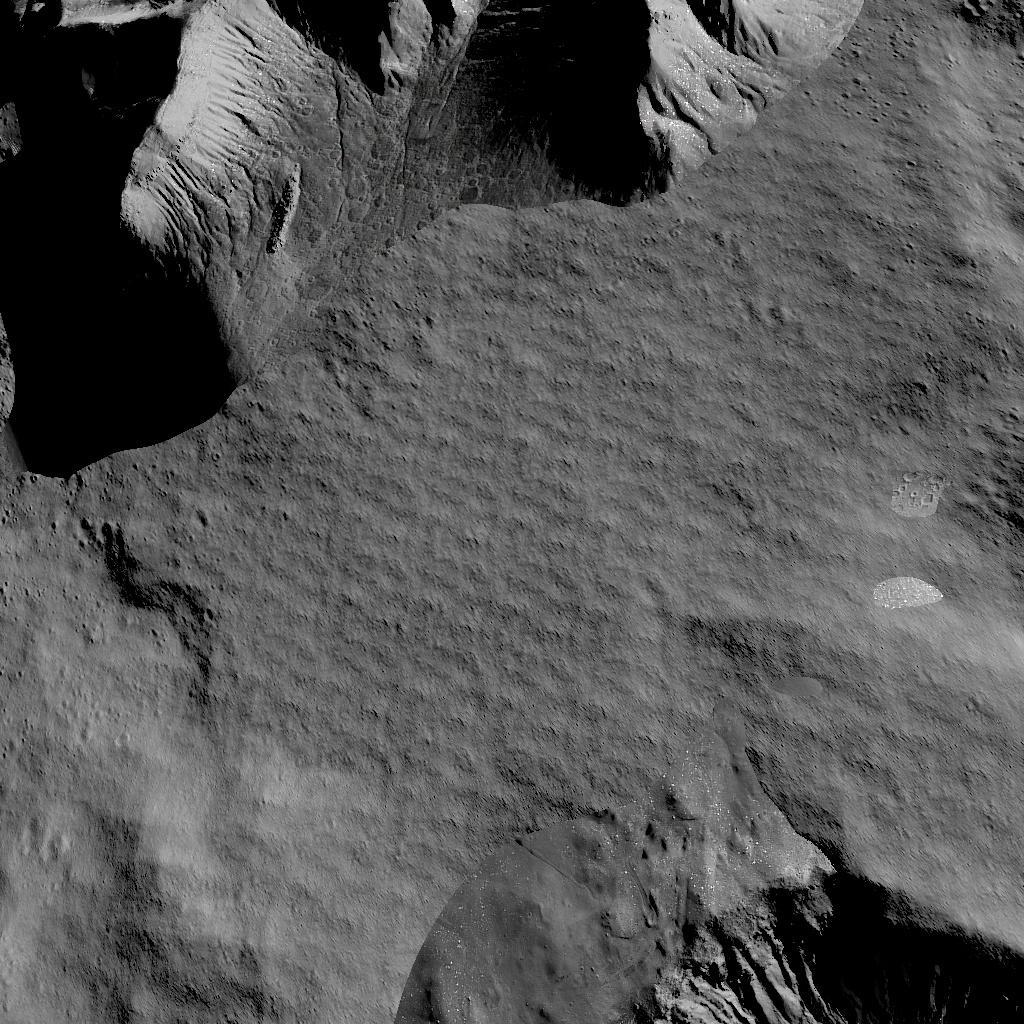Boulders: (27, 0, 873, 410)
Crater: (473, 814, 1024, 1024), (974, 435, 1024, 570)
Plan surface: (15, 498, 417, 1024), (457, 468, 942, 783), (905, 0, 1024, 354)
